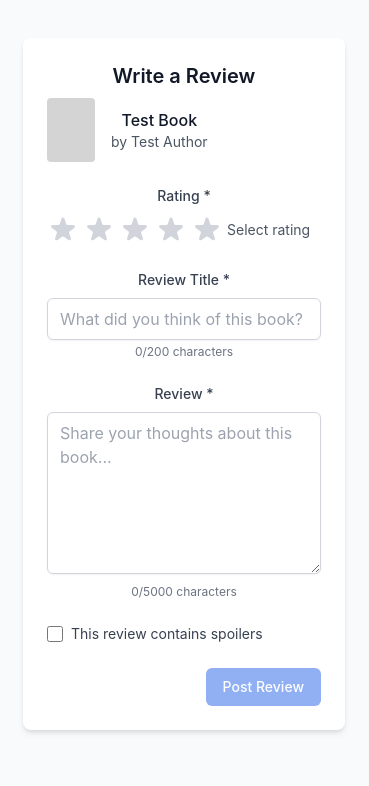
Scenario: ReviewForm › shows error when user is not authenticated
Click the 4th button. click: (171, 230)
box: [155,214,187,246]
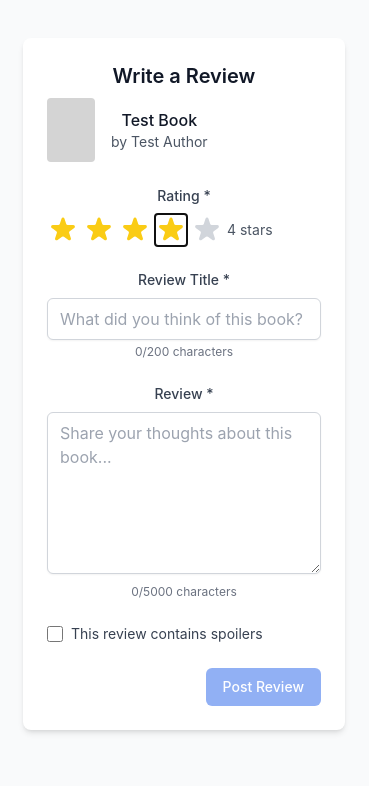
Type "Test" into the field labelled "Review Title *". click: (184, 319)
box: [47,298,321,340]
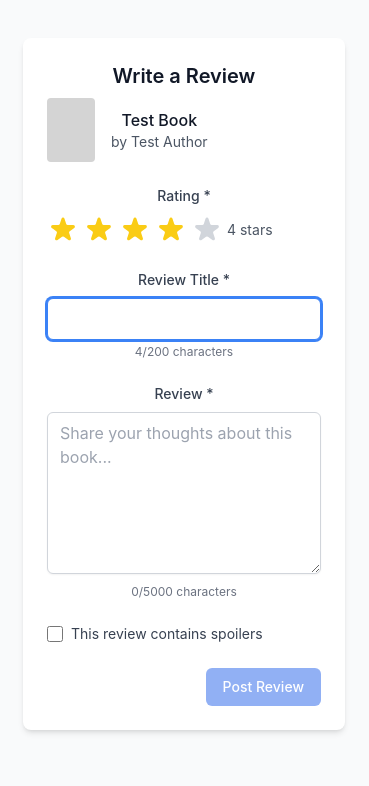
Type "Test content" into the text box labelled "Review *". click: (184, 493)
box: [47,412,321,574]
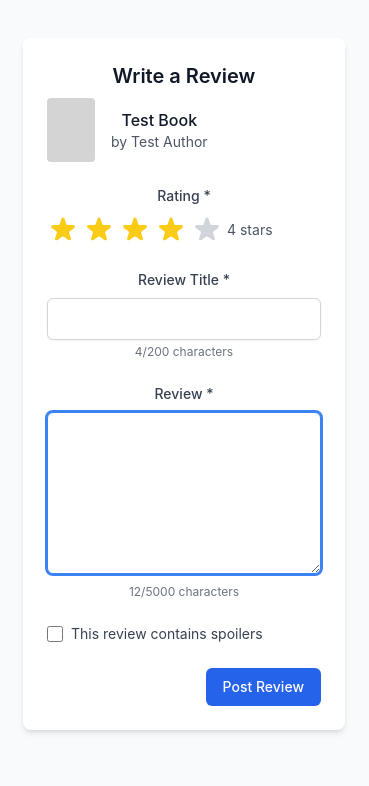
Click the button "Post Review". click: (263, 687)
box: [206,668,321,706]
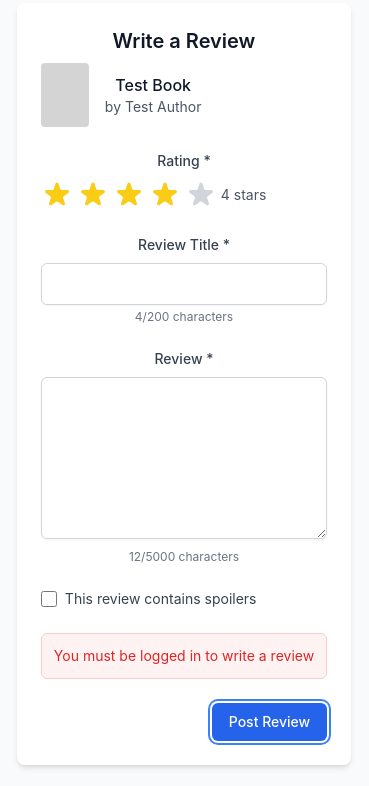
Now the text "You must be logged in to write a review" is shown, box [54,646,314,666]
